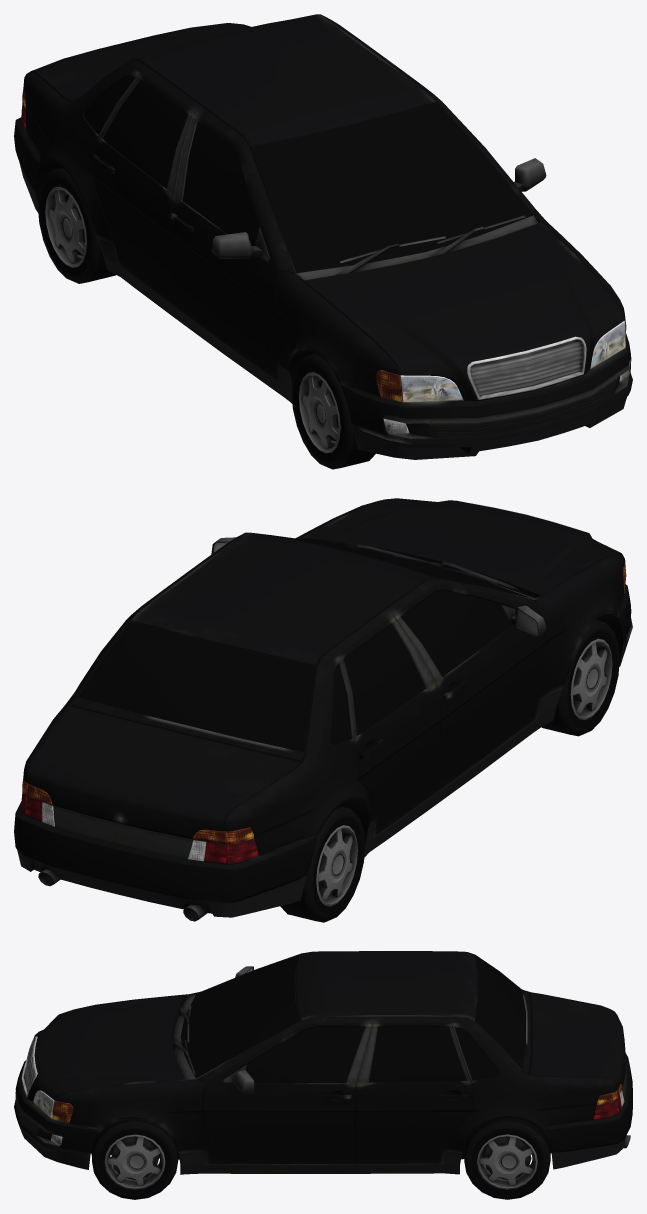
File: sedan_black.glb
The picture shows the model from 3 angles, top to bottom: view 1: azimuth 30°, elevation 25°; view 2: azimuth 150°, elevation 25°; view 3: azimuth 270°, elevation 25°; orthographic projection. The views are drawn at different scales.
Parts seen in each view (by area): view 1: sedan body, Front Right Wheel, Rear Right Wheel; view 2: sedan body, Rear Right Wheel, Front Right Wheel; view 3: sedan body, Rear Left Wheel, Front Left Wheel.
Boxes of the visible parts, x1,y1,x2,y2 form: sedan body: (14,14,632,459); Front Right Wheel: (291,353,375,469); Rear Right Wheel: (38,167,115,283); sedan body: (14,498,632,921); Rear Right Wheel: (280,806,365,922); Front Right Wheel: (541,620,619,736); sedan body: (14,951,632,1174); Rear Left Wheel: (464,1118,550,1199); Front Left Wheel: (91,1119,178,1199).
Size of the model in its own units: 1.94 by 1.34 by 4.36.
Materials: 1 (1 with a texture image).
